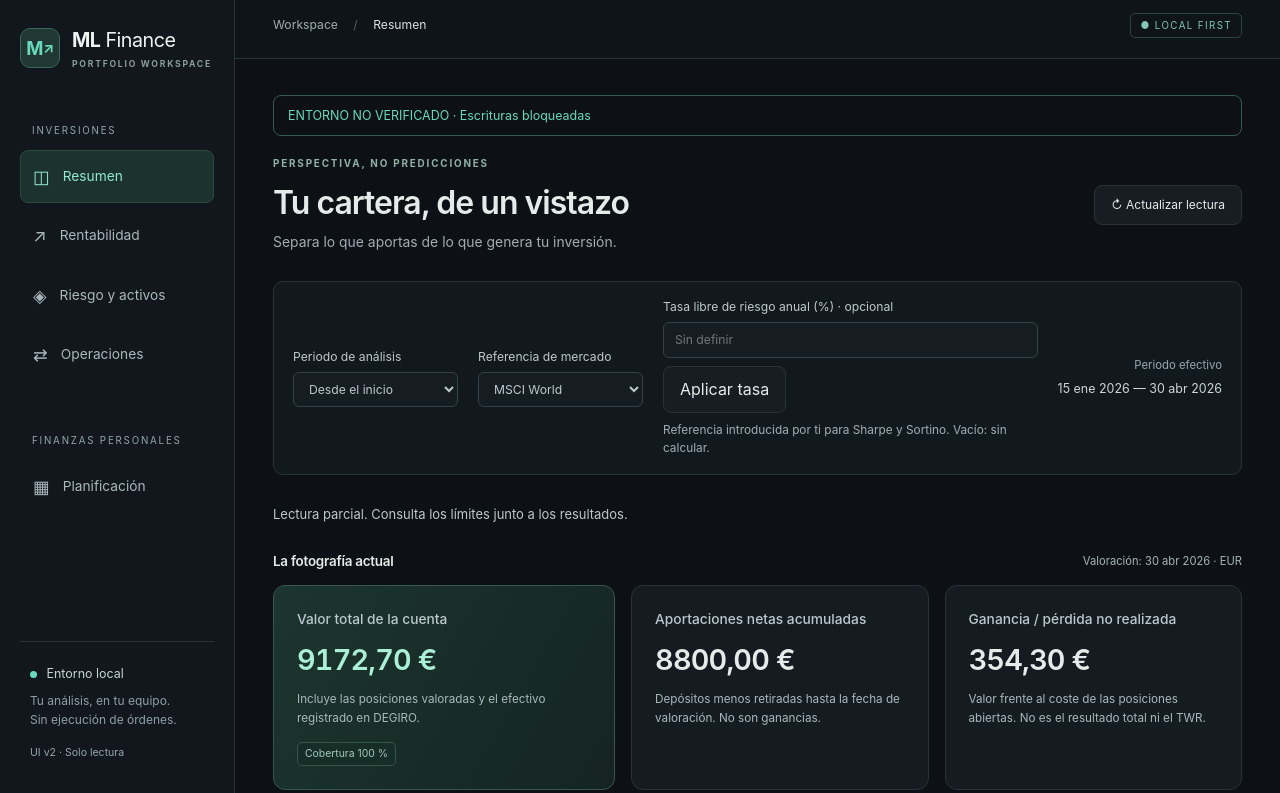
read-only workspace › never substitutes a missing real benchmark with synthetic curves
Expected: the heading "La fotografía actual" is shown, top-left (273, 551), bottom-right (394, 572)
Click the button "↗ Rentabilidad": x=117, y=236 top-left (20, 209), bottom-right (214, 263)
(page scrolled)
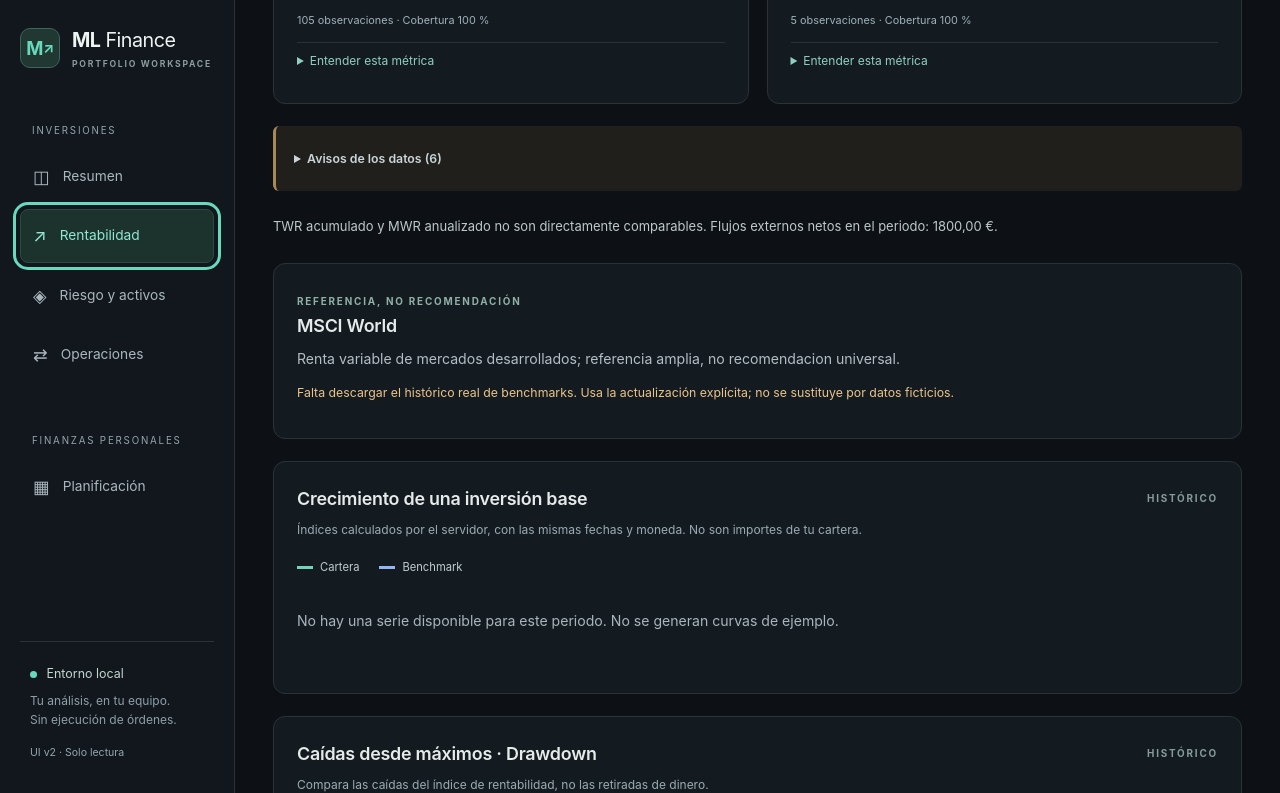
Result: the text "Falta descargar el histórico real" is shown at top-left (297, 386), bottom-right (954, 400)
